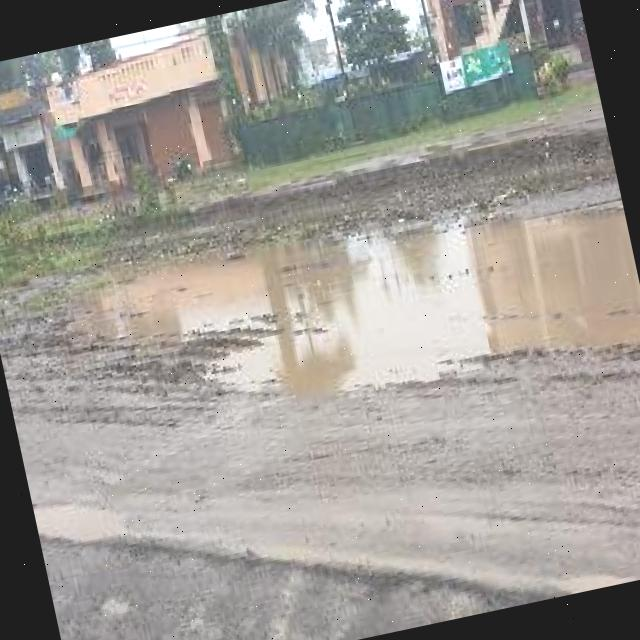waterlogging: (11, 168, 640, 480)
